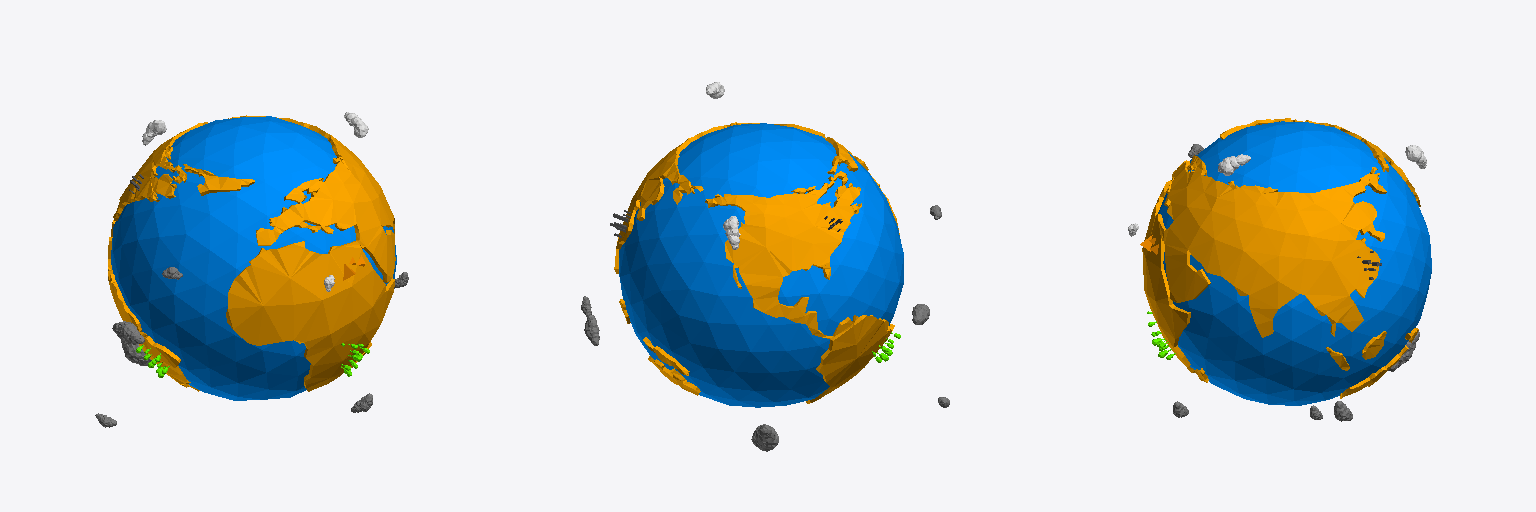
The model's file is earth.obj.
3 views of the same model, side by side, from view 1: azimuth 30°, elevation 25°; view 2: azimuth 150°, elevation 25°; view 3: azimuth 270°, elevation 25° (orthographic).
Visible parts, largest first — view 1: GeoSphere001, Shape1; view 2: GeoSphere001, Shape1, pasted__BlobMesh005 group9; view 3: GeoSphere001, Shape1.
Part boxes in pixels (left/top/right/bottom): GeoSphere001: left=111, top=116, right=396, bottom=400; Shape1: left=108, top=115, right=395, bottom=391; GeoSphere001: left=619, top=123, right=903, bottom=407; Shape1: left=614, top=122, right=899, bottom=403; pasted__BlobMesh005 group9: left=751, top=424, right=778, bottom=451; GeoSphere001: left=1158, top=121, right=1431, bottom=405; Shape1: left=1142, top=118, right=1420, bottom=398.
Bounding box in the file's own units: 7.42 × 5.79 × 5.79.